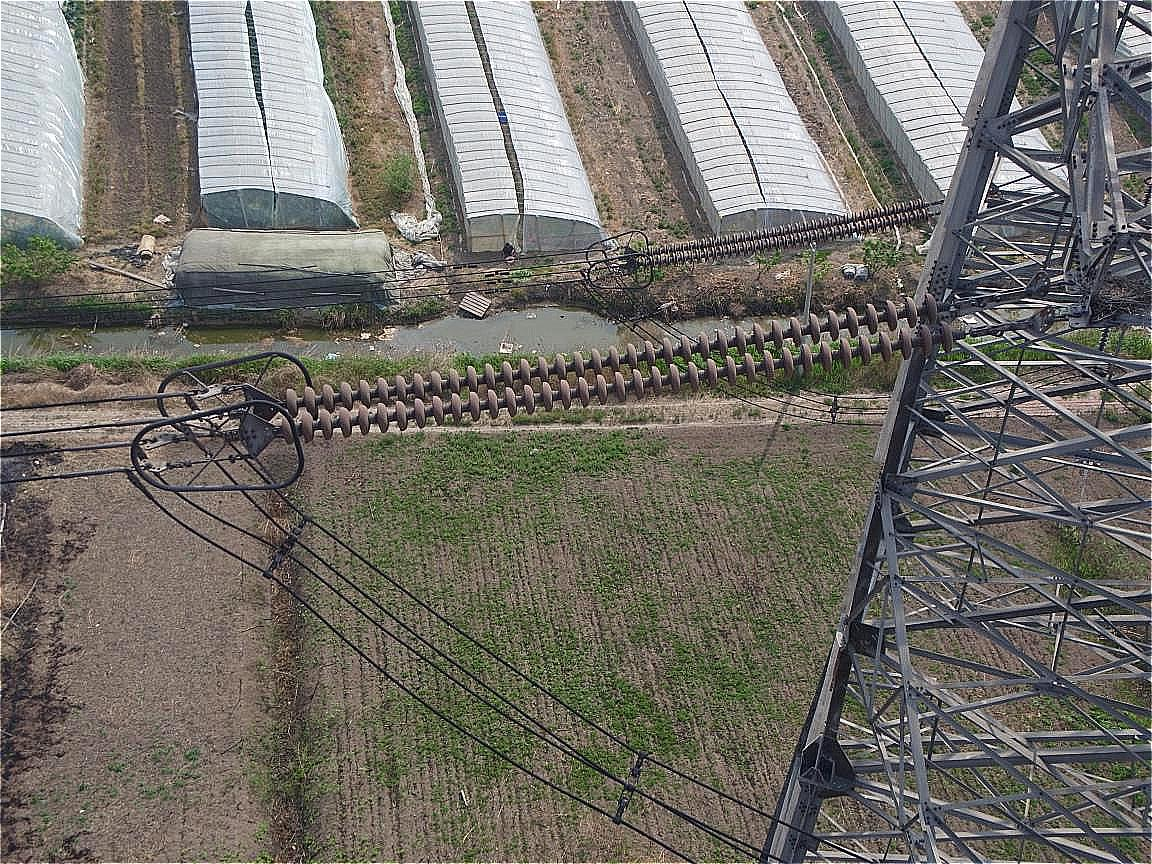insultor1: (265, 282, 975, 454)
insultor2: (618, 169, 938, 274)
